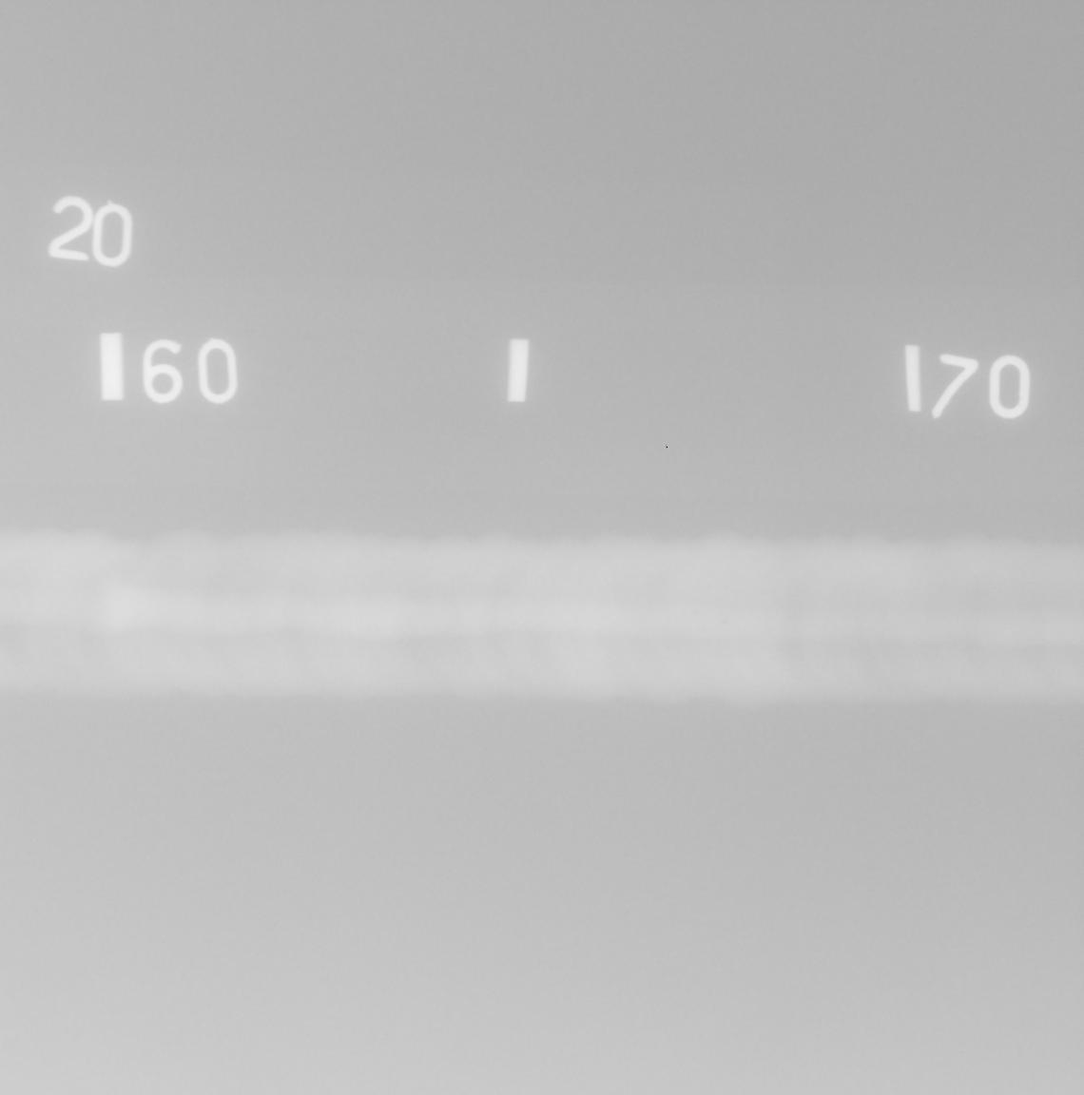Inclusion: (76, 628, 90, 644), (92, 634, 99, 638)
Pore/Porosity: (692, 609, 700, 615), (880, 610, 887, 616), (722, 617, 728, 624)
